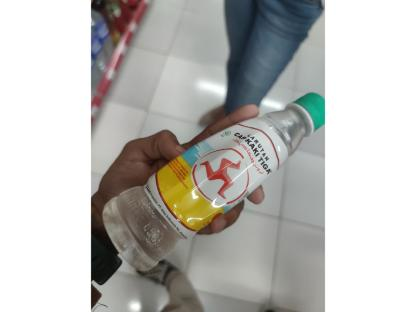Plastic Bottle: (92, 84, 332, 288)
